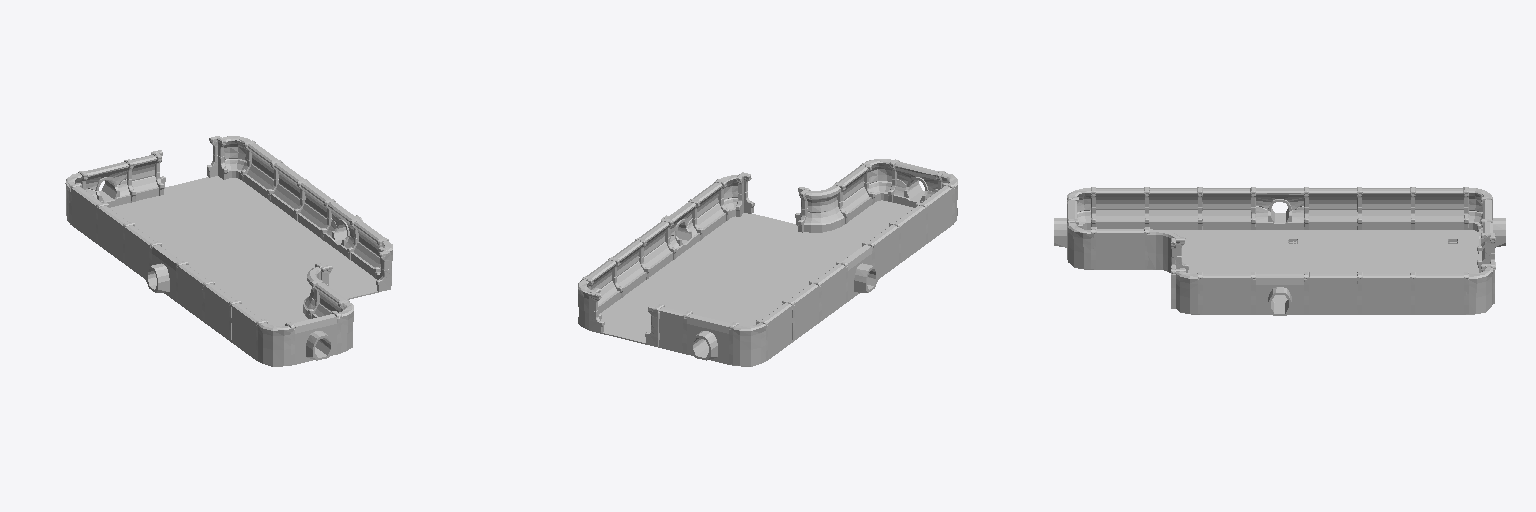
Rendered from DungeonRoom_19.obj.
3 renders of one model, left to right at view 1: azimuth 30°, elevation 25°; view 2: azimuth 150°, elevation 25°; view 3: azimuth 270°, elevation 25°, orthographic.
Visible parts, largest first — view 1: DungeonRoom_19; view 2: DungeonRoom_19; view 3: DungeonRoom_19.
Part boxes in pixels (x1,y1,x2,y2): DungeonRoom_19: (65, 136, 392, 366); DungeonRoom_19: (578, 159, 957, 366); DungeonRoom_19: (1054, 187, 1505, 315).
Size of the model in its own units: 36 by 8.22 by 68.